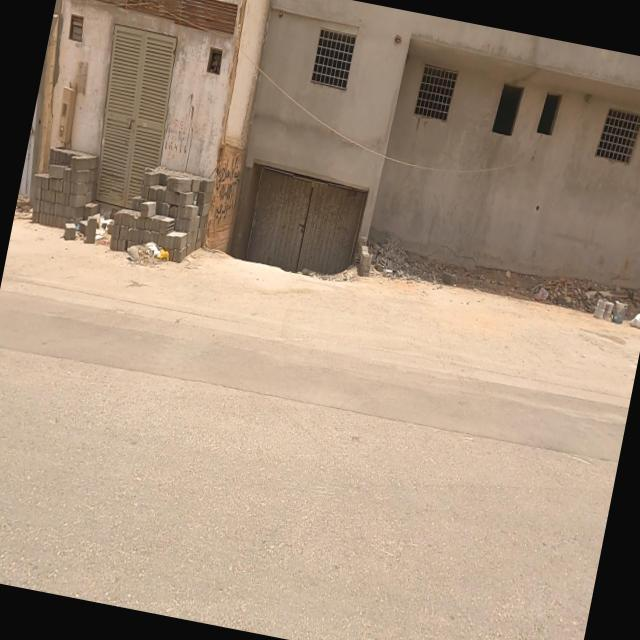Graffiti: (205, 150, 248, 242)
